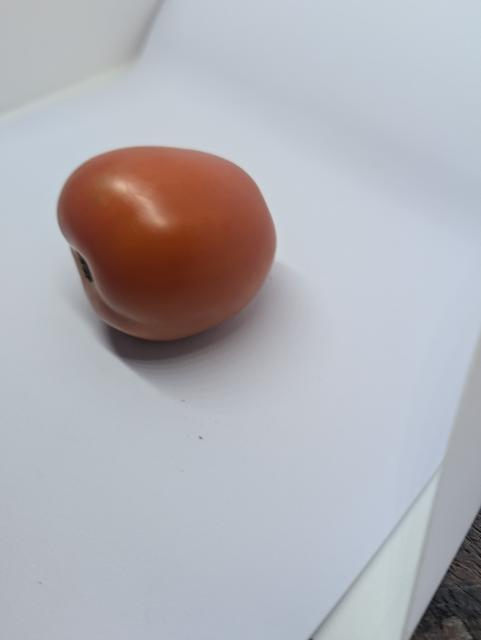red: (41, 132, 301, 358)
